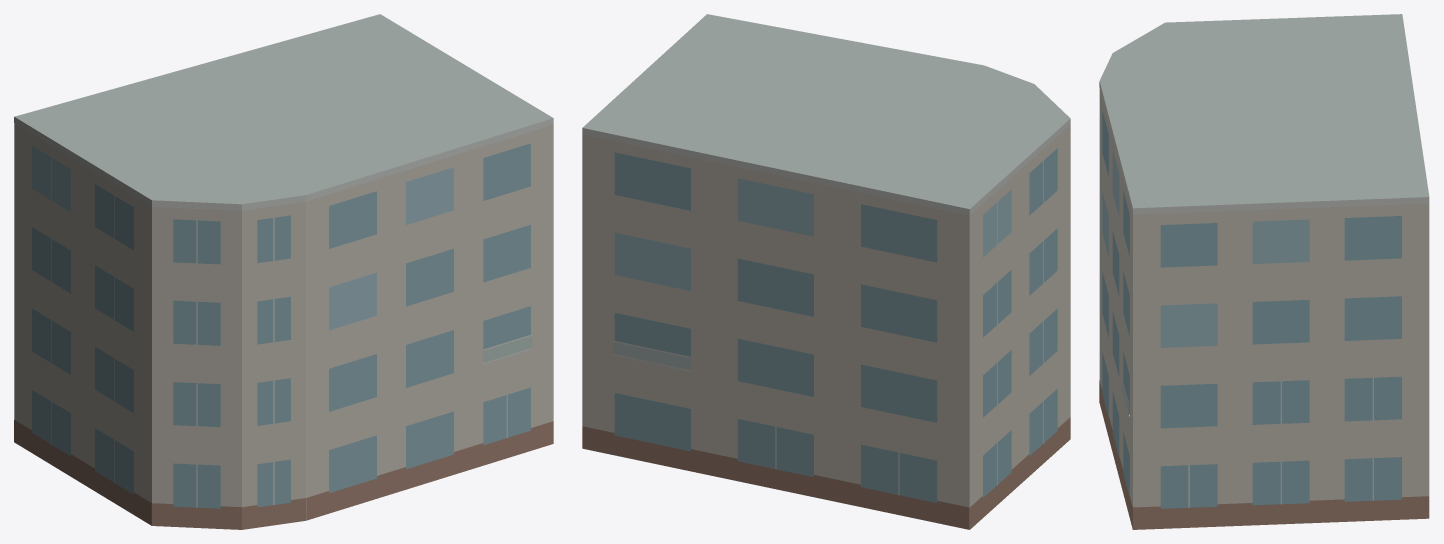
The model's file is survey-upis-32737446.glb.
3 renders of one model, left to right at view 1: azimuth 30°, elevation 25°; view 2: azimuth 150°, elevation 25°; view 3: azimuth 270°, elevation 25°, orthographic.
Visible parts, largest first — view 1: survey-upis-32737446.tmp; view 2: survey-upis-32737446.tmp; view 3: survey-upis-32737446.tmp.
Part boxes in pixels (x1,y1,x2,y2): survey-upis-32737446.tmp: [14, 14, 553, 529]; survey-upis-32737446.tmp: [582, 14, 1070, 529]; survey-upis-32737446.tmp: [1099, 14, 1429, 529].
Bounding box in the file's own units: 15.94 × 12.3 × 11.45.
